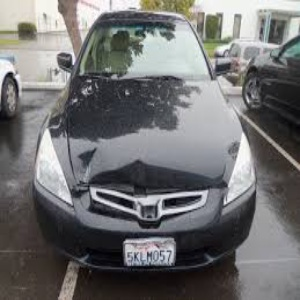bonnet: (75, 134, 220, 186)
